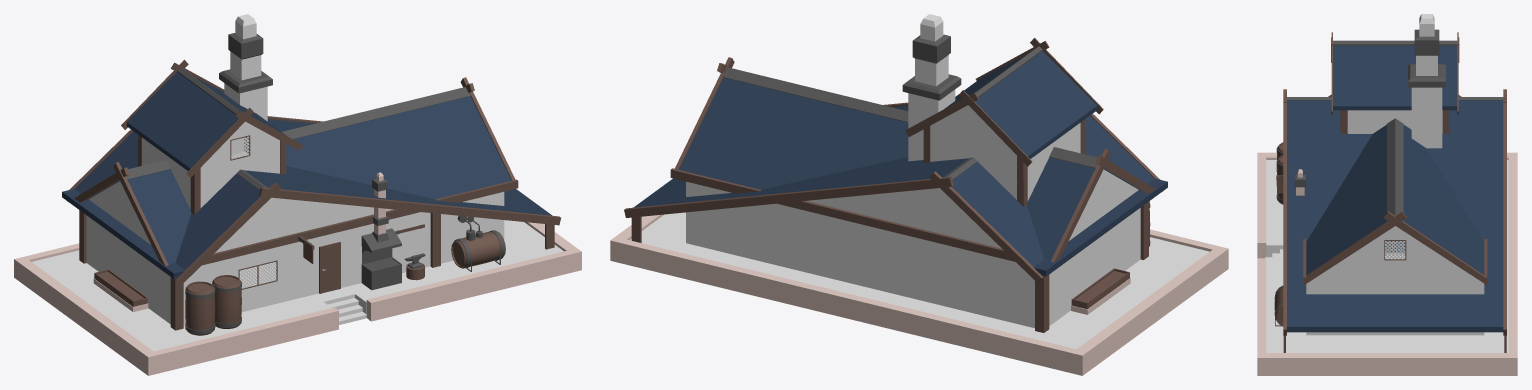
File: Dungeon_House.fbx
3 renders of one model, left to right at view 1: azimuth 30°, elevation 25°; view 2: azimuth 150°, elevation 25°; view 3: azimuth 270°, elevation 25°, orthographic. The views are drawn at different scales.
Parts seen in each view (by area): view 1: Room.002, Room.001, Baseboard.002, Room.003, Baseboard.001, Cube.001, Cube, Cube.012, Cube.011, Room.004, Cylinder.006, Cylinder.001 (+17 smaller); view 2: Room.001, Room.002, Baseboard.002, Room.003, Baseboard.001, Cube.001, Cube, Cube.013, Cube.011, Room.004, Cube.033, Cube.008 (+7 smaller); view 3: Room.003, Room.002, Baseboard.002, Room.001, Baseboard.001, Cube.001, Cube.011, Room.004, Cube, Cube.013, Cube.012, Cube.009 (+7 smaller).
Boxes of the visible parts, x1,y1,x2,y2 form: Room.002: (87, 96, 518, 265); Room.001: (86, 181, 504, 326); Baseboard.002: (14, 222, 581, 375); Room.003: (62, 119, 551, 278); Baseboard.001: (32, 220, 563, 351); Cube.001: (127, 72, 286, 170); Cube: (142, 121, 279, 209); Cube.012: (176, 182, 560, 284); Cube.011: (219, 14, 272, 121); Room.004: (126, 87, 470, 179); Cylinder.006: (185, 281, 215, 335); Cylinder.001: (451, 230, 505, 268); Room.001: (686, 169, 1140, 328); Room.002: (670, 77, 1141, 261); Baseboard.002: (610, 214, 1228, 375); Room.003: (633, 105, 1167, 276); Baseboard.001: (630, 212, 1209, 349); Cube.001: (945, 51, 1097, 158); Cube: (930, 105, 1080, 201); Cube.013: (624, 171, 1043, 282); Cube.011: (902, 14, 961, 161); Room.004: (723, 67, 1097, 168); Cube.033: (1071, 268, 1130, 314); Cube.008: (1050, 149, 1110, 262); Room.003: (1287, 100, 1503, 332); Room.002: (1303, 124, 1487, 284); Baseboard.002: (1257, 152, 1517, 375); Room.001: (1306, 226, 1484, 335); Baseboard.001: (1266, 160, 1508, 352); Cube.001: (1333, 45, 1457, 110); Cube.011: (1408, 14, 1445, 148); Room.004: (1386, 118, 1403, 221); Cube: (1347, 110, 1442, 133); Cube.013: (1503, 89, 1506, 335); Cube.012: (1283, 89, 1286, 335); Cube.009: (1306, 211, 1406, 283).
Size of the model in its own units: 2172 by 1194 by 1165.
